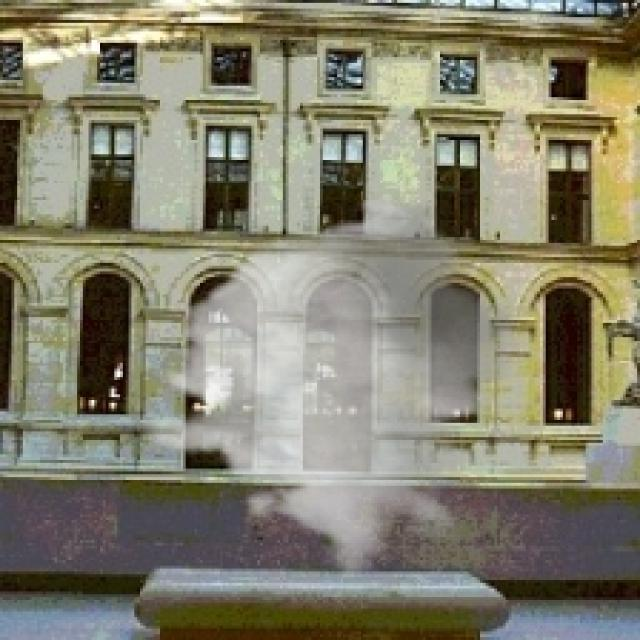smoke: (134, 191, 532, 580)
